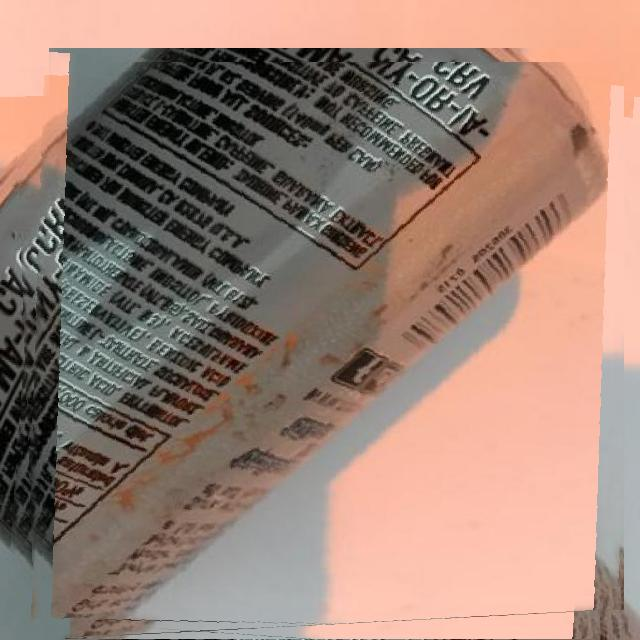recyclable: (14, 62, 624, 640)
